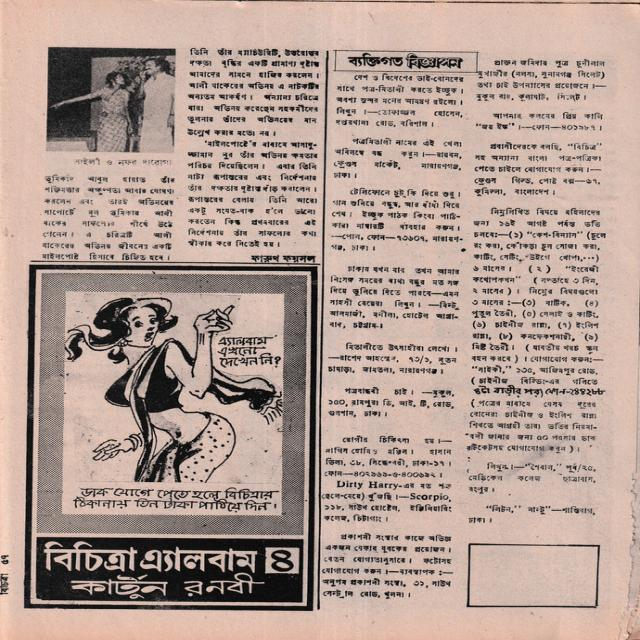caption: (72, 156, 171, 168)
image: (27, 264, 316, 609), (47, 48, 175, 153)
paragraph: (463, 205, 612, 456), (186, 139, 321, 249), (188, 48, 323, 138), (42, 174, 175, 260), (328, 261, 462, 332), (322, 529, 455, 600), (328, 185, 464, 253), (471, 139, 607, 199), (331, 73, 471, 130), (476, 55, 613, 103), (332, 134, 466, 181), (323, 433, 456, 479), (322, 479, 455, 524), (324, 340, 461, 378), (465, 458, 600, 496), (325, 385, 458, 420), (464, 501, 599, 525), (473, 109, 608, 133)
text: (252, 255, 316, 264)
title: (336, 52, 477, 72)
